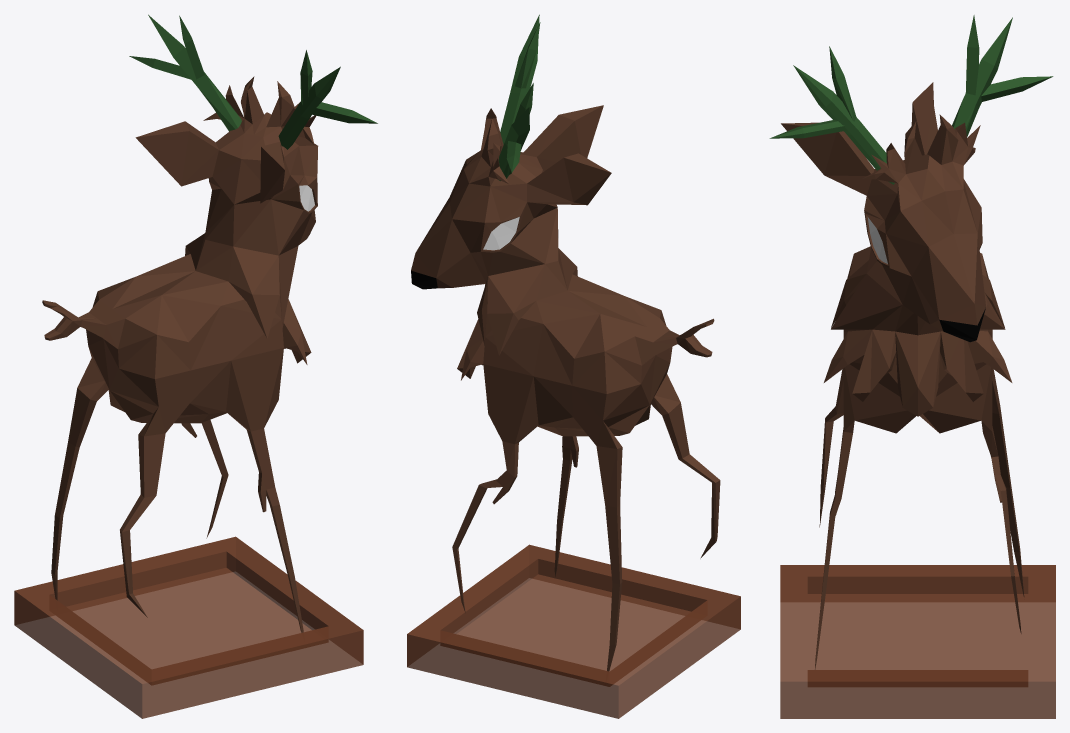
The model's file is 3d_minion_yggradsil_green.fbx.
The picture shows the model from 3 angles, left to right: view 1: azimuth 30°, elevation 25°; view 2: azimuth 150°, elevation 25°; view 3: azimuth 270°, elevation 25°; orthographic projection. The views are drawn at different scales.
Parts seen in each view (by area): view 1: yiggradsil_green, SM_will_o_wisp_01; view 2: yiggradsil_green, SM_will_o_wisp_01; view 3: yiggradsil_green, SM_will_o_wisp_01.
Boxes of the visible parts, x1,y1,x2,y2 form: yiggradsil_green: (42,14,377,632); SM_will_o_wisp_01: (14,536,363,718); yiggradsil_green: (411,14,720,671); SM_will_o_wisp_01: (407,544,740,718); yiggradsil_green: (769,15,1053,669); SM_will_o_wisp_01: (780,565,1055,718).
Size of the model in its own units: 130 by 262 by 104.
